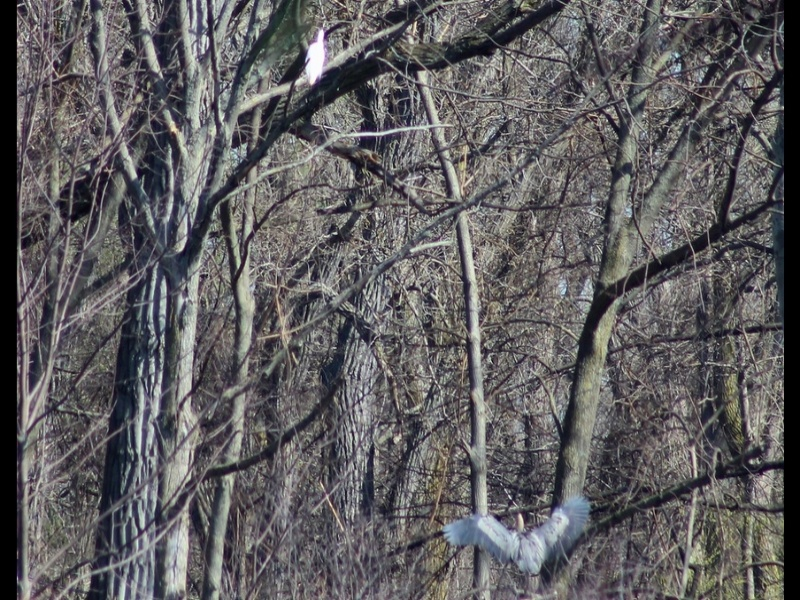heron: (443, 492, 590, 595)
